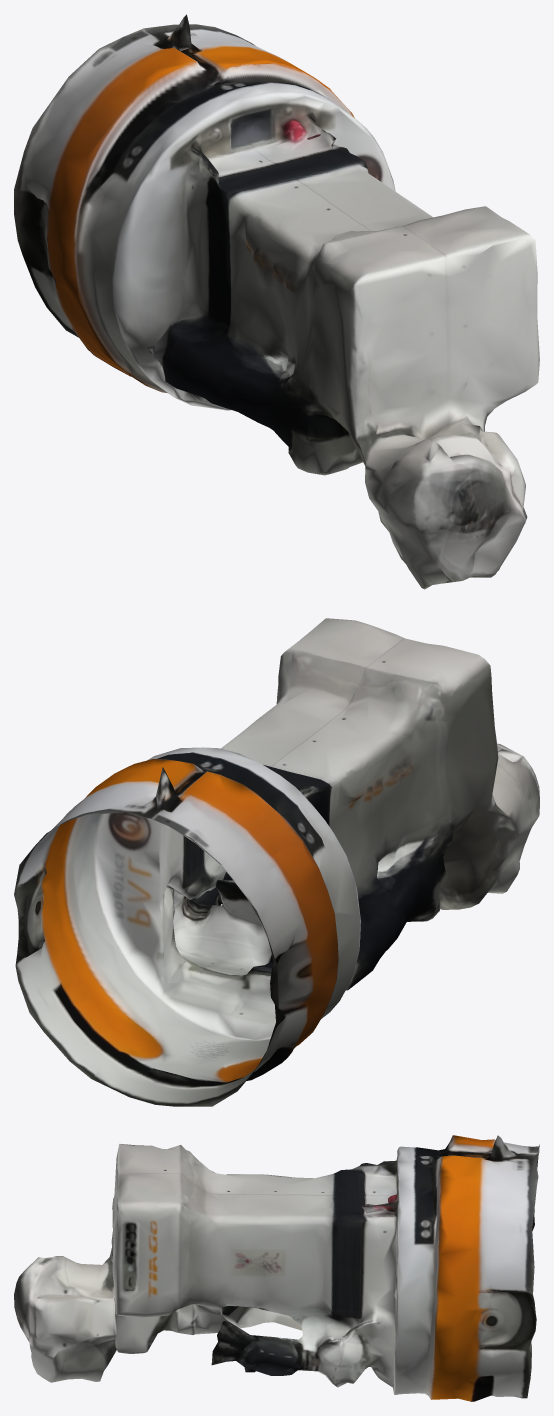
Rendered from tiago.obj.
The picture shows the model from 3 angles, top to bottom: view 1: azimuth 30°, elevation 25°; view 2: azimuth 150°, elevation 25°; view 3: azimuth 270°, elevation 25°; orthographic projection. The views are drawn at different scales.
Visible parts, largest first — view 1: bot3; view 2: bot3; view 3: bot3.
Part boxes in pixels (box(x1,y1,x2,y2)): bot3: box(14, 14, 539, 589); bot3: box(14, 618, 539, 1106); bot3: box(14, 1135, 539, 1401).
Size of the model in its own units: 8.42 by 9.42 by 17.61.
